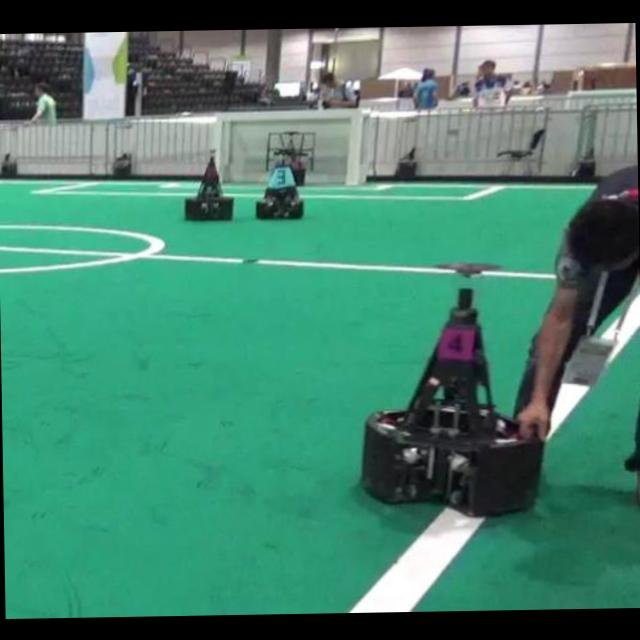goal: (344, 109, 364, 182)
robot: (362, 287, 543, 514), (184, 149, 232, 218), (255, 158, 303, 217), (265, 131, 314, 183)
